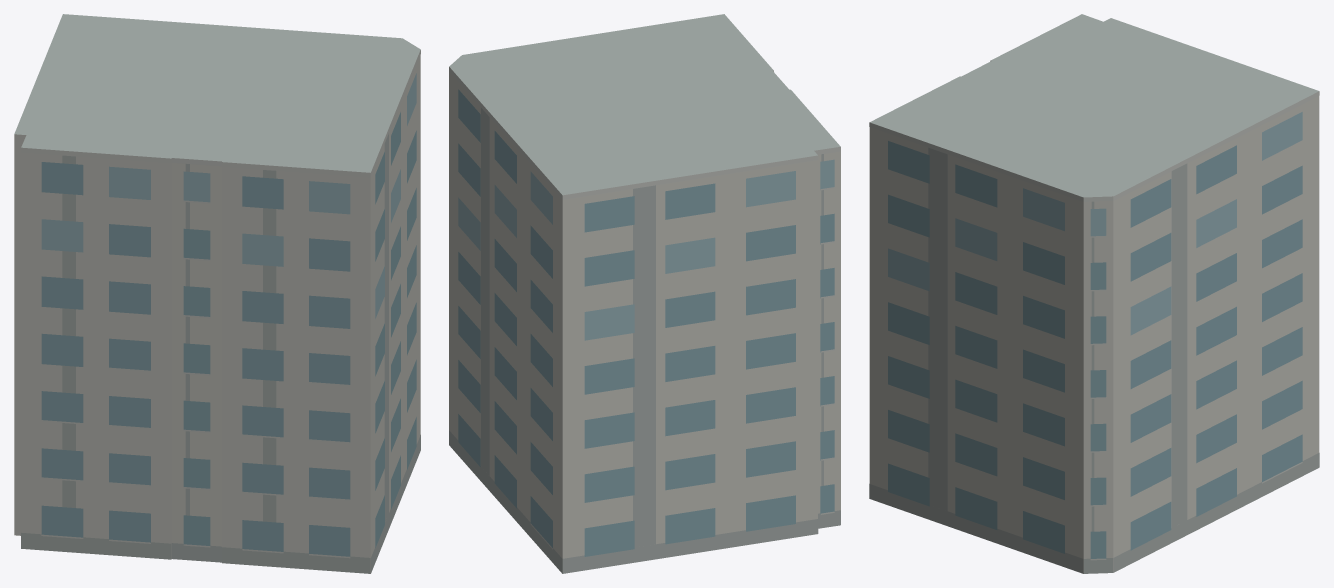
File: survey-upis-32944158.glb
3 views of the same model, side by side, from view 1: azimuth 30°, elevation 25°; view 2: azimuth 150°, elevation 25°; view 3: azimuth 270°, elevation 25° (orthographic). The views are drawn at different scales.
Parts seen in each view (by area): view 1: survey-upis-32944158.tmp; view 2: survey-upis-32944158.tmp; view 3: survey-upis-32944158.tmp.
Boxes of the visible parts, x1=… form: survey-upis-32944158.tmp: x1=14, y1=14, x2=420, y2=573; survey-upis-32944158.tmp: x1=449, y1=14, x2=840, y2=573; survey-upis-32944158.tmp: x1=869, y1=14, x2=1319, y2=573.
Bounding box in the file's own units: 21.01 × 20.1 × 21.78.
